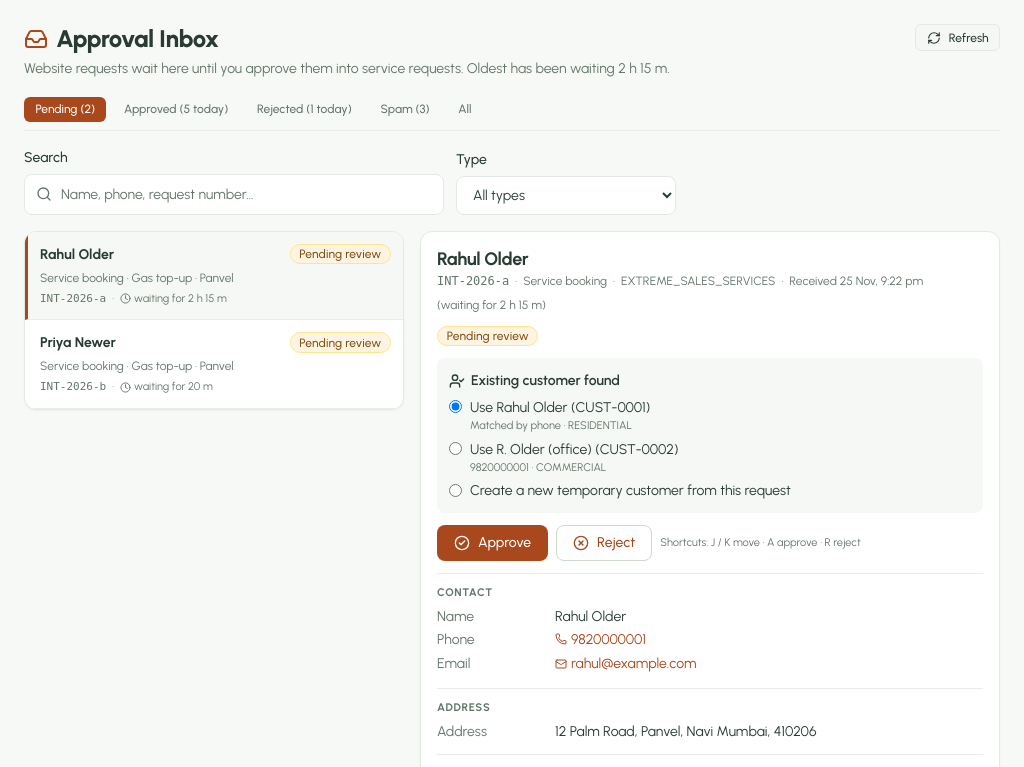
Test: Approval Inbox › approve without an existing customer sends no customerId
Click the radio button named "intake-customer": (456, 491) [449,484,462,497]
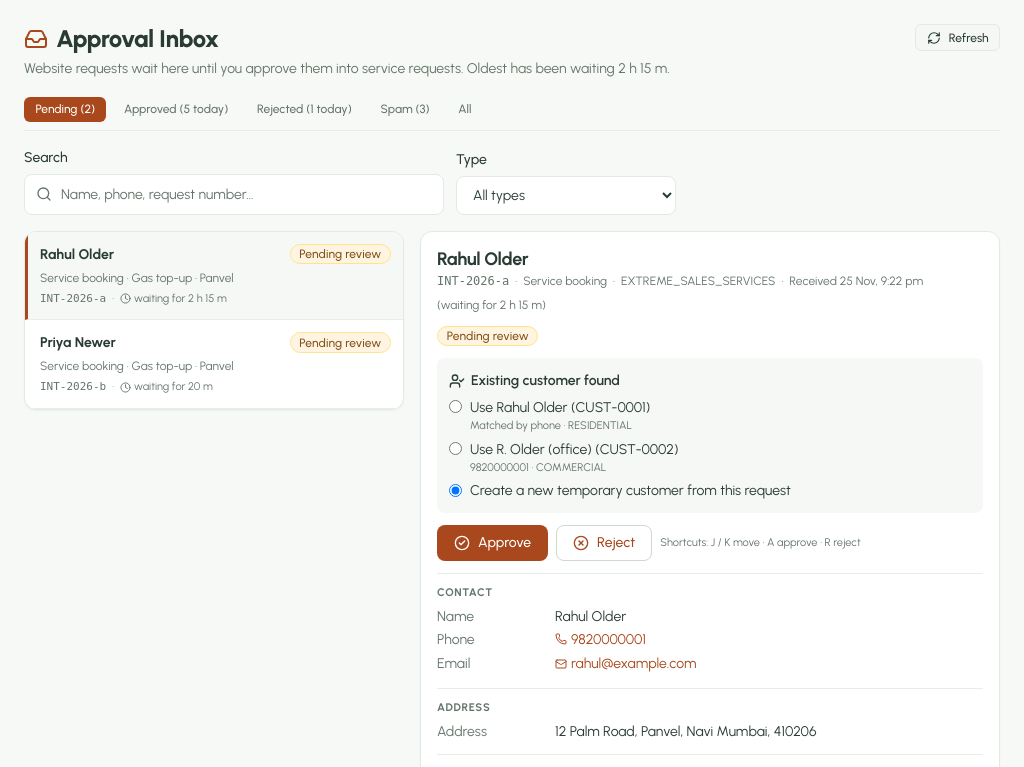
Click the button "Approve": (493, 543) [437,525,548,561]
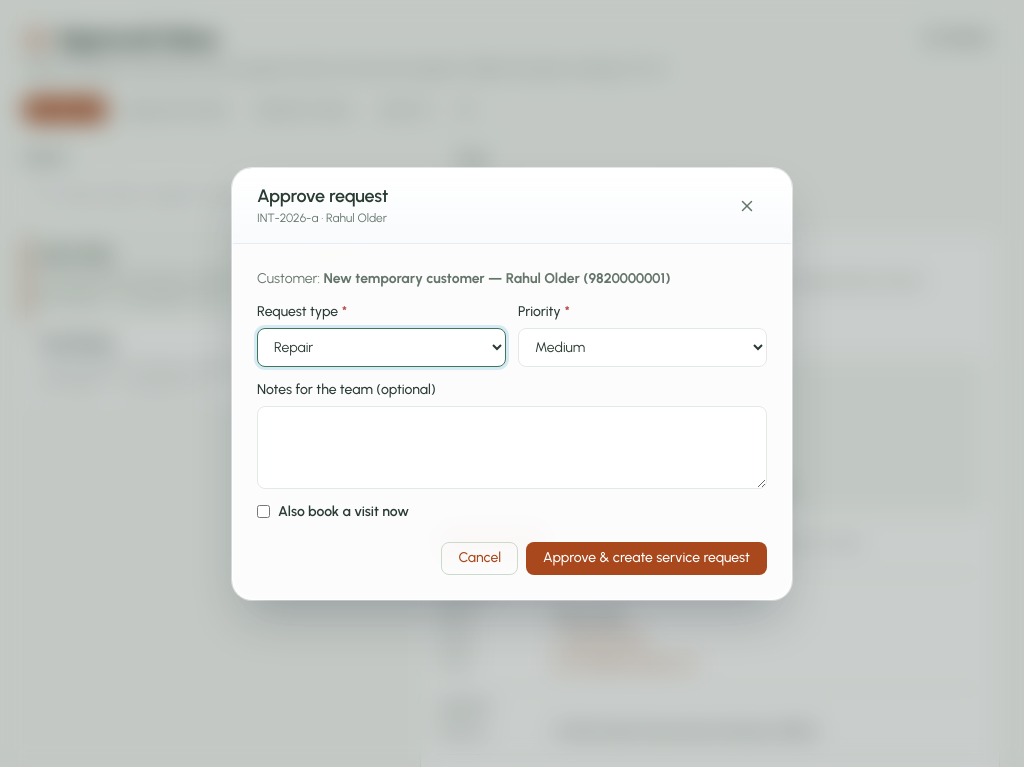
Result: the button "Approve & create service request" is shown
Click the button "Approve & create service request": (646, 558) [526,542,767,575]
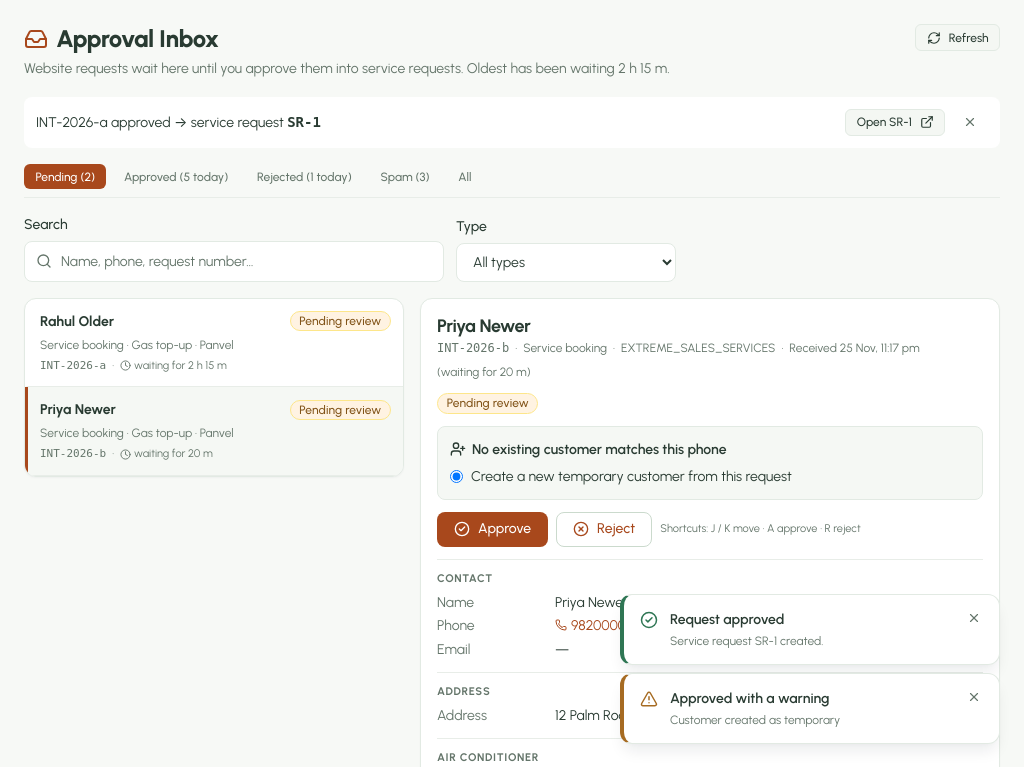
Result: the text "Customer created as temporary" is shown at [670,713,840,727]
